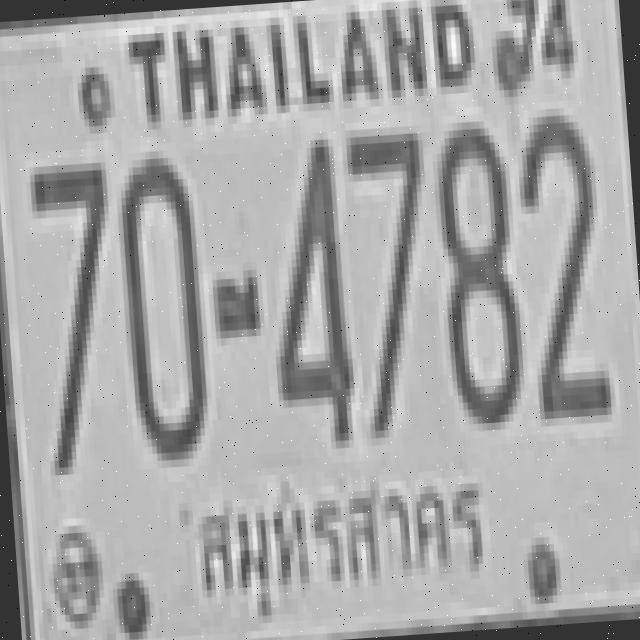0: (114, 148, 205, 454)
2: (516, 110, 608, 416)
4: (260, 135, 352, 441)
7: (24, 154, 121, 468), (340, 125, 437, 431), (24, 155, 115, 380)
8: (430, 112, 522, 425)
SamutSakhon: (186, 446, 498, 633)
